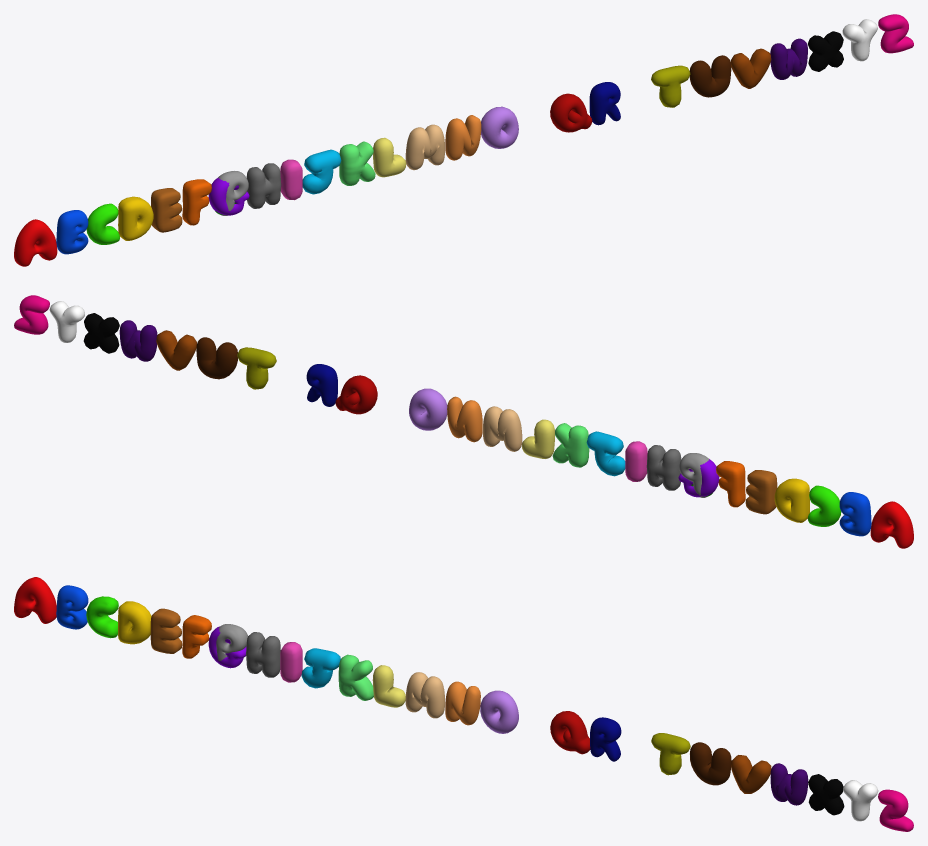
3 views of the same model, one above another, from view 1: azimuth 30°, elevation 25°; view 2: azimuth 150°, elevation 25°; view 3: azimuth 330°, elevation 25° (orthographic).
Visible parts, largest first — view 1: A_0, M_12, U_20, H_4, N_15, O_13, D_5, K_10, Q_16, W_22, B_1, J_9 (+13 smaller); view 2: A_0, M_12, U_20, O_13, H_4, N_15, D_5, K_10, Q_16, W_22, B_1, J_9 (+13 smaller); view 3: A_0, M_12, U_20, H_4, O_13, K_10, Q_16, N_15, D_5, E_3, W_22, B_1 (+13 smaller).
Part boxes in pixels (x1,y1,x2,y2): A_0: [14, 219, 57, 266]; M_12: [405, 124, 444, 170]; U_20: [689, 55, 731, 97]; H_4: [246, 163, 281, 208]; N_15: [445, 115, 481, 160]; O_13: [481, 106, 518, 148]; D_5: [118, 196, 153, 240]; K_10: [339, 141, 375, 185]; Q_16: [550, 93, 592, 132]; W_22: [770, 38, 807, 79]; B_1: [56, 210, 88, 254]; J_9: [302, 149, 341, 194]; A_0: [870, 501, 913, 548]; M_12: [483, 406, 522, 451]; U_20: [196, 337, 237, 379]; O_13: [409, 388, 447, 430]; H_4: [646, 445, 681, 490]; N_15: [447, 396, 482, 442]; D_5: [774, 478, 809, 522]; K_10: [552, 423, 589, 467]; Q_16: [335, 375, 377, 414]; W_22: [119, 320, 157, 361]; B_1: [839, 492, 871, 536]; J_9: [586, 431, 625, 476]; A_0: [14, 577, 56, 623]; M_12: [405, 672, 444, 718]; U_20: [690, 742, 731, 785]; H_4: [246, 632, 280, 677]; O_13: [480, 690, 518, 733]; K_10: [338, 654, 373, 700]; Q_16: [550, 711, 590, 754]; N_15: [445, 681, 480, 725]; D_5: [118, 601, 151, 644]; E_3: [150, 608, 182, 653]; W_22: [770, 763, 808, 805]; B_1: [56, 585, 88, 629].
Bounding box in the file's own units: 23.11 × 1.03 × 0.5393.
